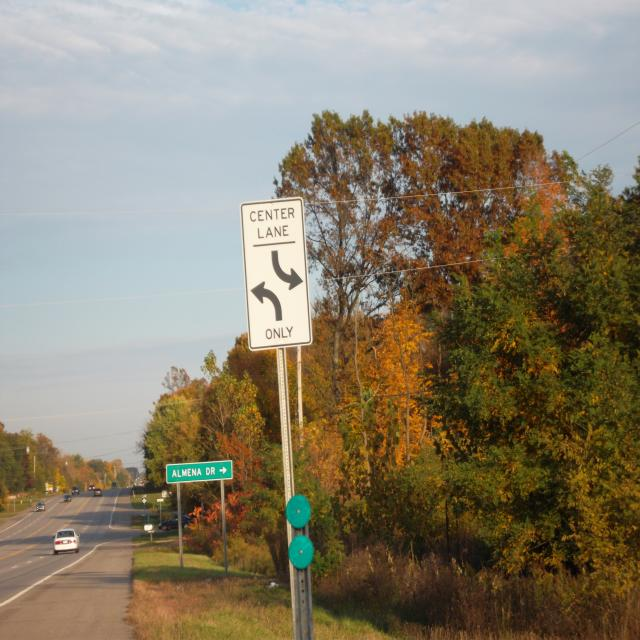regulatory: (241, 194, 315, 354)
